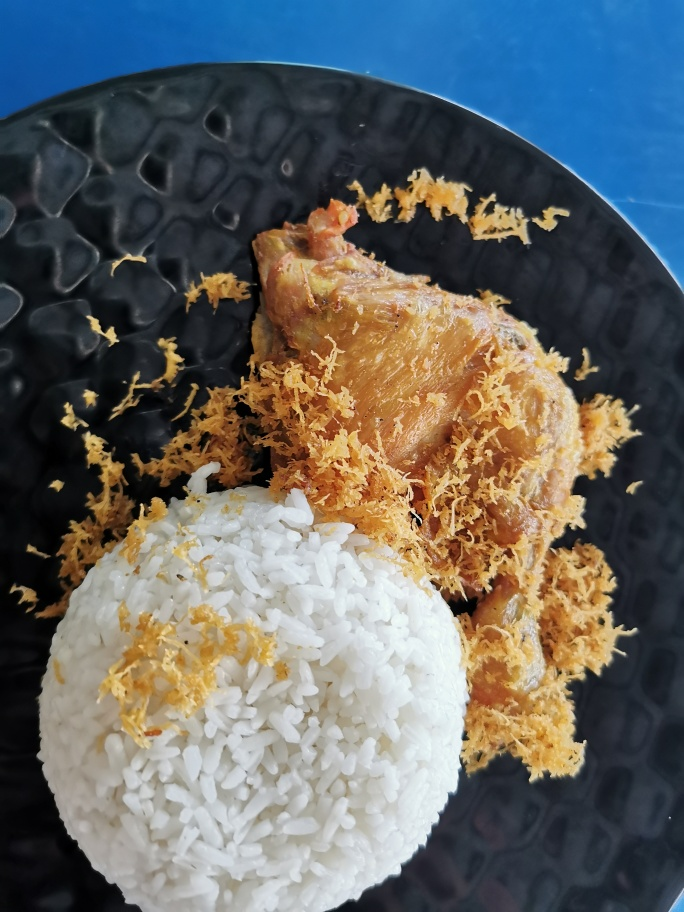ayam goreng: (217, 187, 627, 794)
nasi putih: (36, 470, 466, 912)
